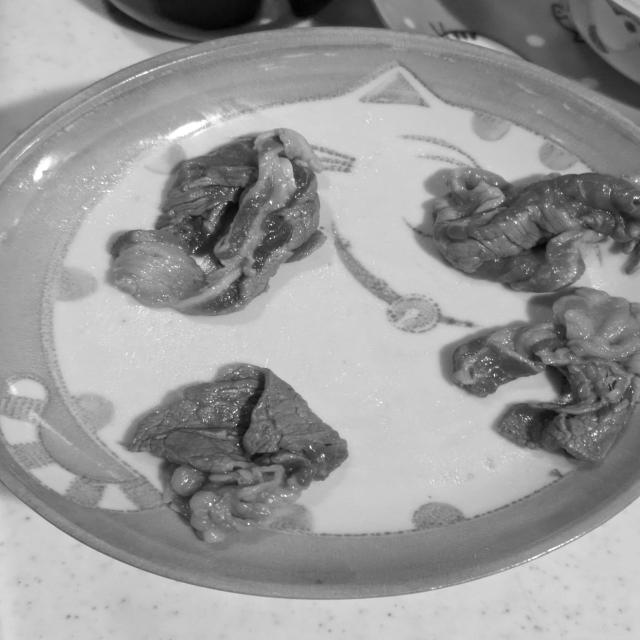NG undercooked beef,: (118, 352, 363, 556), (95, 119, 335, 325), (421, 287, 640, 473), (430, 163, 640, 297)
